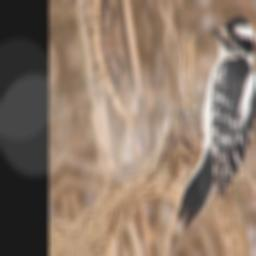Woodpecker: (149, 11, 256, 237)
